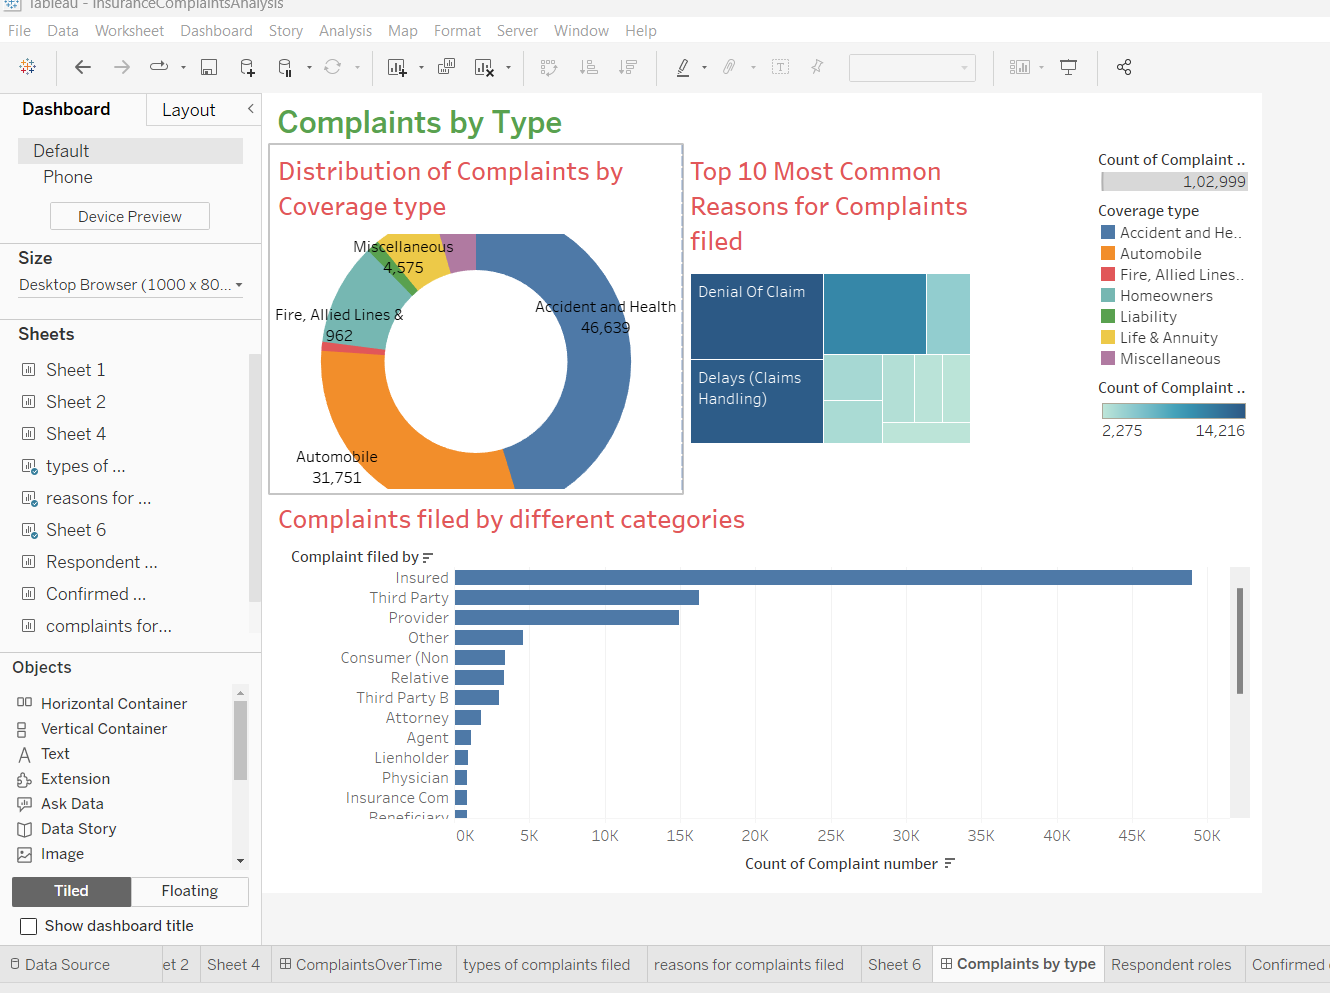

Layout of this report page (visuals, bound fields, positions):
{"tool":"tableau","page":{"name":"Complaints by type","canvas":[1000,800],"ordinal":0},"visuals":[{"type":"title","box":[8,8,984,44]},{"type":"worksheet","title":"Sheet 6","mark":"Pie","rows":["Calculation_1490410014164168704","Calculation_1490410014164168704"],"box":[8,52,412,348]},{"type":"worksheet","title":"reasons for complaints filed","mark":"Automatic","box":[420,52,412,306]},{"type":"legend","title":"Sheet 6","param":"[federated.0un4jei15bbcvl1elf4x41mn3vh6].[cnt:Complaint number:qk]","box":[832,52,160,51]},{"type":"legend","title":"Sheet 6","param":"[federated.0un4jei15bbcvl1elf4x41mn3vh6].[none:Coverage type:nk]","box":[832,103,160,177]},{"type":"legend","title":"reasons for complaints filed","param":"[federated.0un4jei15bbcvl1elf4x41mn3vh6].[cnt:Complaint number:qk]","box":[832,280,160,73]},{"type":"worksheet","title":"types of complaints filed","mark":"Automatic","rows":["Complaint filed by"],"cols":["Complaint number"],"box":[8,400,984,392]}]}

Visuals, with their boxes on the page's 1000x800 design canvas (x1, y1, x2, y2). These are canvas units, not pixel positions in the 1330x993 screenshot, which may show the page scaled, cropped or inside an application window:
title: bbox=[8, 8, 992, 52]
"Sheet 6" worksheet (Pie marks): bbox=[8, 52, 420, 400]
"reasons for complaints filed" worksheet: bbox=[420, 52, 832, 358]
"Sheet 6" legend: bbox=[832, 52, 992, 103]
"Sheet 6" legend: bbox=[832, 103, 992, 280]
"reasons for complaints filed" legend: bbox=[832, 280, 992, 353]
"types of complaints filed" worksheet: bbox=[8, 400, 992, 792]
